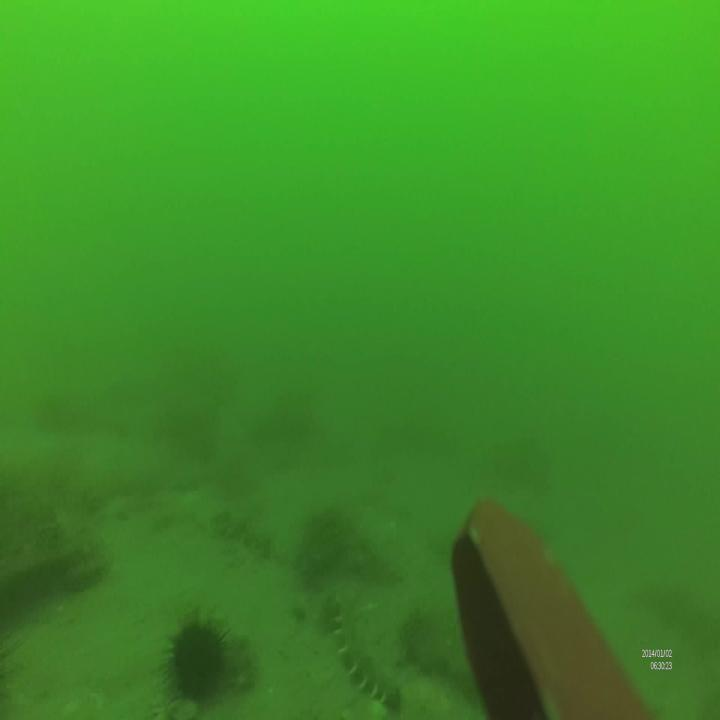echinus: (162, 617, 231, 706)
holothurian: (333, 596, 403, 714)
